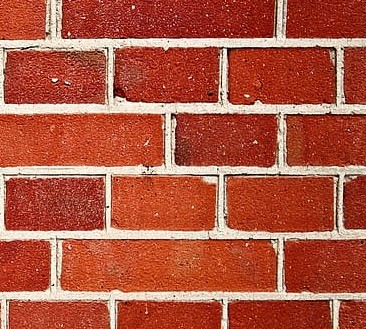brick: (58, 238, 279, 292), (1, 111, 166, 168), (60, 1, 278, 39), (225, 175, 339, 235), (115, 44, 223, 105), (112, 173, 218, 234), (229, 47, 337, 106), (172, 110, 280, 168), (1, 48, 110, 105), (3, 172, 107, 229), (283, 238, 366, 294), (287, 113, 366, 168), (227, 297, 338, 328), (114, 297, 226, 327), (6, 297, 113, 327), (284, 1, 365, 39), (1, 239, 48, 291), (1, 1, 48, 40), (343, 47, 366, 104), (344, 175, 366, 229), (340, 298, 365, 329)
